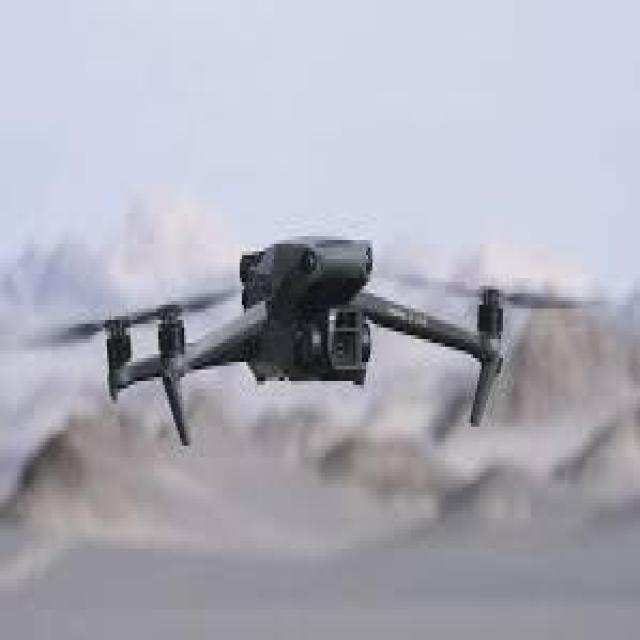drones: (74, 205, 556, 462)
